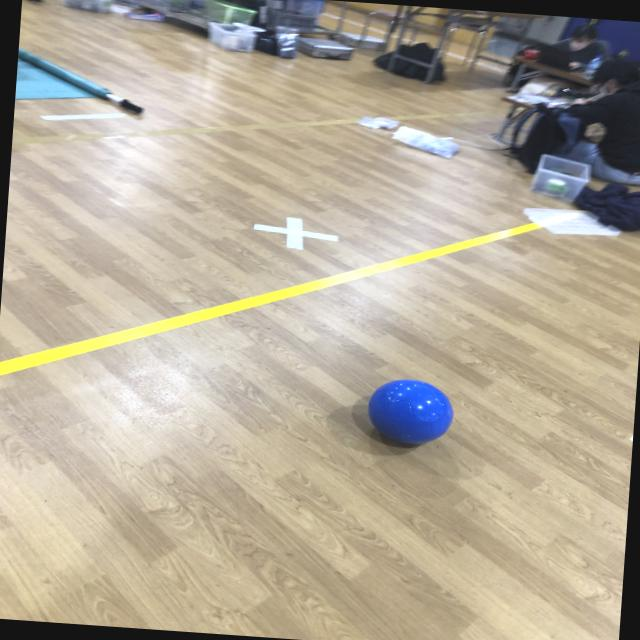blue_ball: (363, 373, 456, 448)
